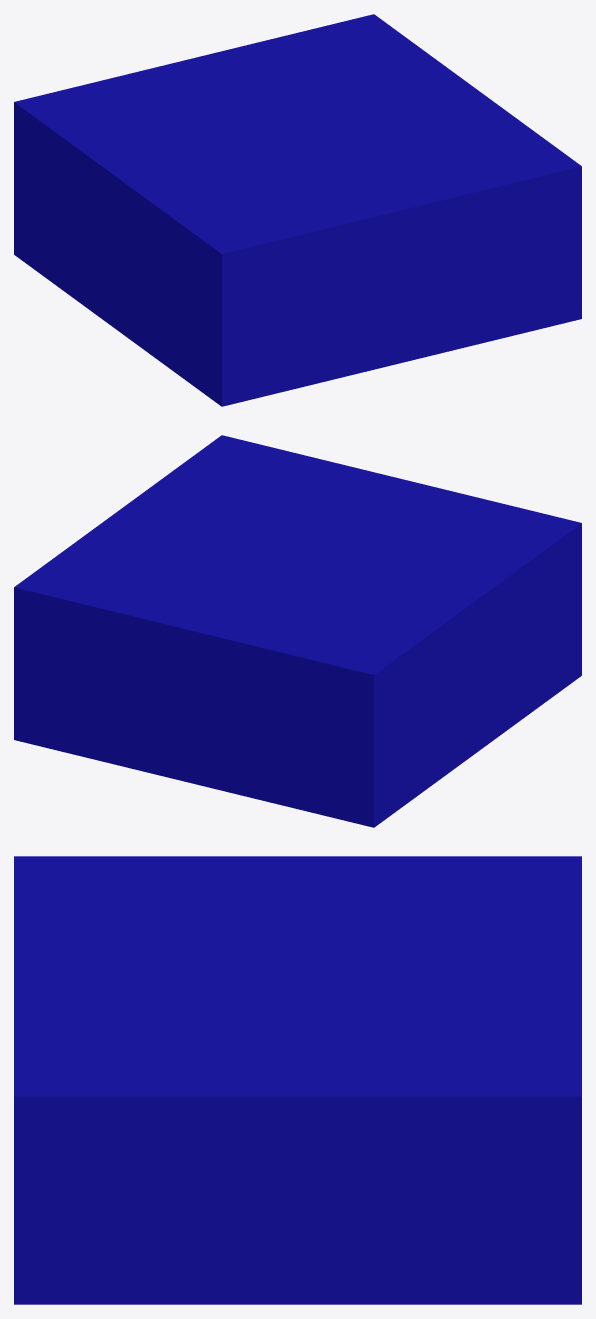
Rendered from pong.glb.
3 views of the same model, one above another, from view 1: azimuth 30°, elevation 25°; view 2: azimuth 150°, elevation 25°; view 3: azimuth 270°, elevation 25° (orthographic). The views are drawn at different scales.
Visible parts, largest first — view 1: Cube.001; view 2: Cube.001; view 3: Cube.001.
Part boxes in pixels (x1,y1,x2,y2): Cube.001: [14, 14, 581, 406]; Cube.001: [14, 435, 581, 827]; Cube.001: [14, 856, 581, 1304].
Size of the model in its own units: 260 by 105 by 260.
